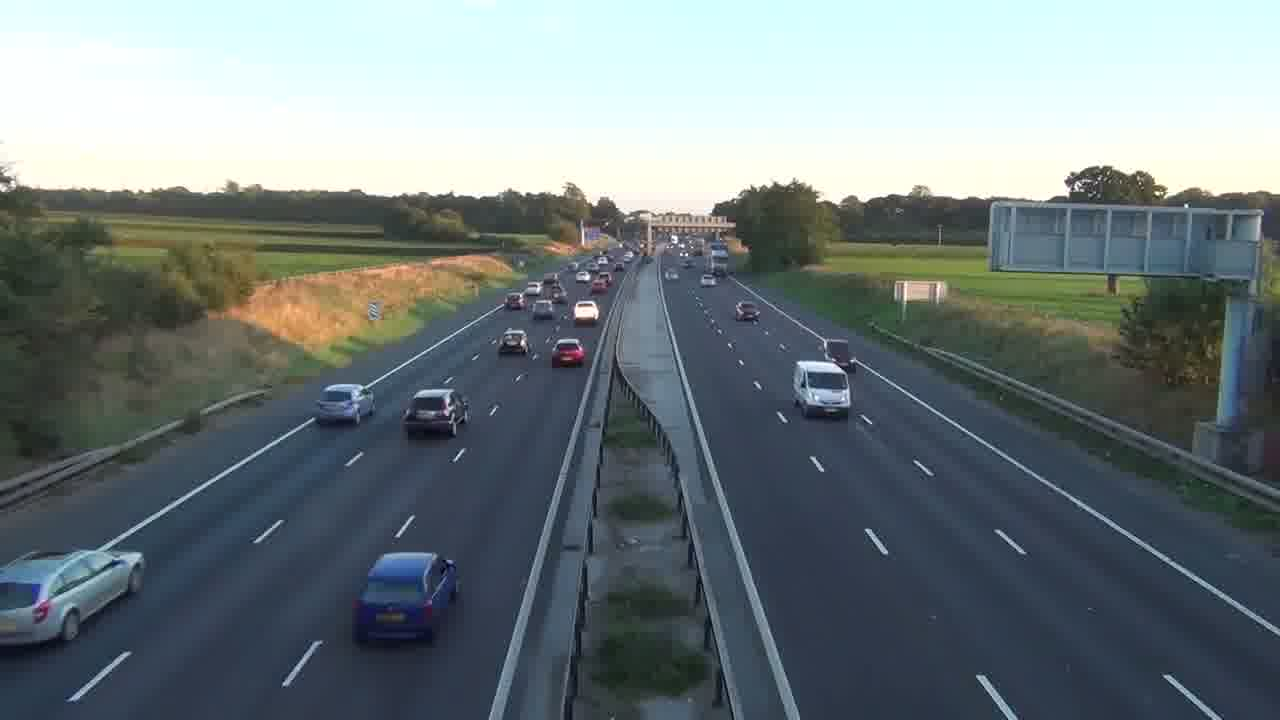car: (0, 547, 145, 647), (351, 551, 460, 644), (401, 388, 469, 438), (316, 383, 376, 424), (550, 338, 585, 368)
